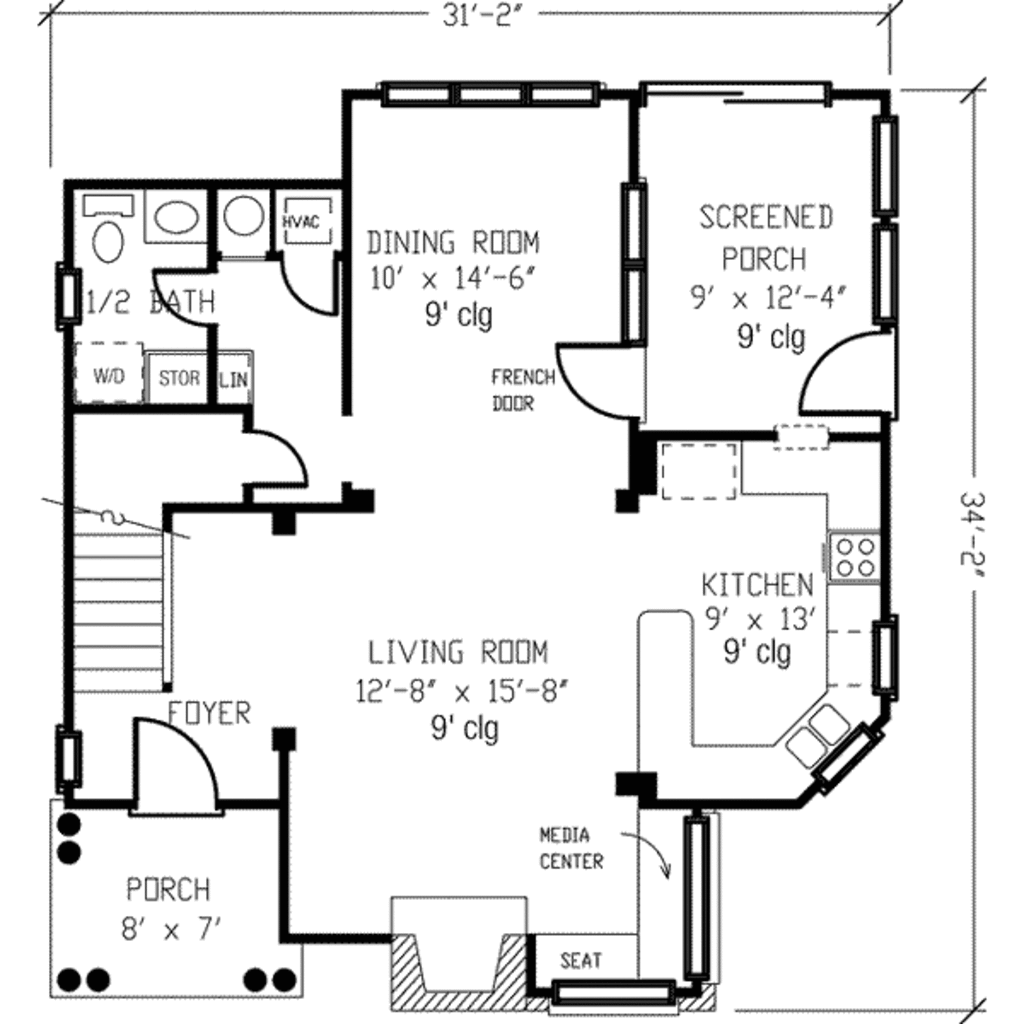door: (125, 717, 234, 821), (799, 330, 898, 422), (547, 335, 648, 422), (244, 421, 314, 499), (145, 266, 219, 328), (281, 247, 339, 319)
large_sink: (78, 192, 138, 283)
small_sink: (145, 192, 209, 246)
stairs: (66, 499, 178, 697)
twin_sink: (767, 685, 870, 772)
window: (869, 616, 903, 699), (55, 727, 83, 794), (59, 263, 83, 335)
